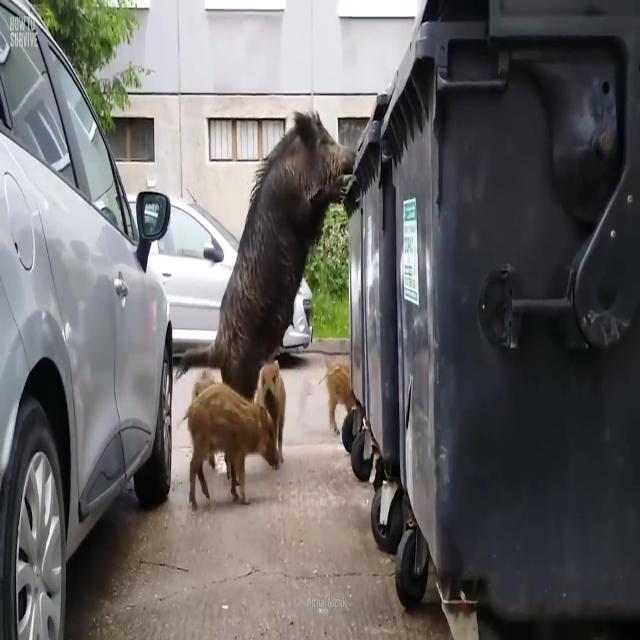pig: (211, 79, 361, 453), (194, 350, 284, 515), (252, 360, 302, 491)
